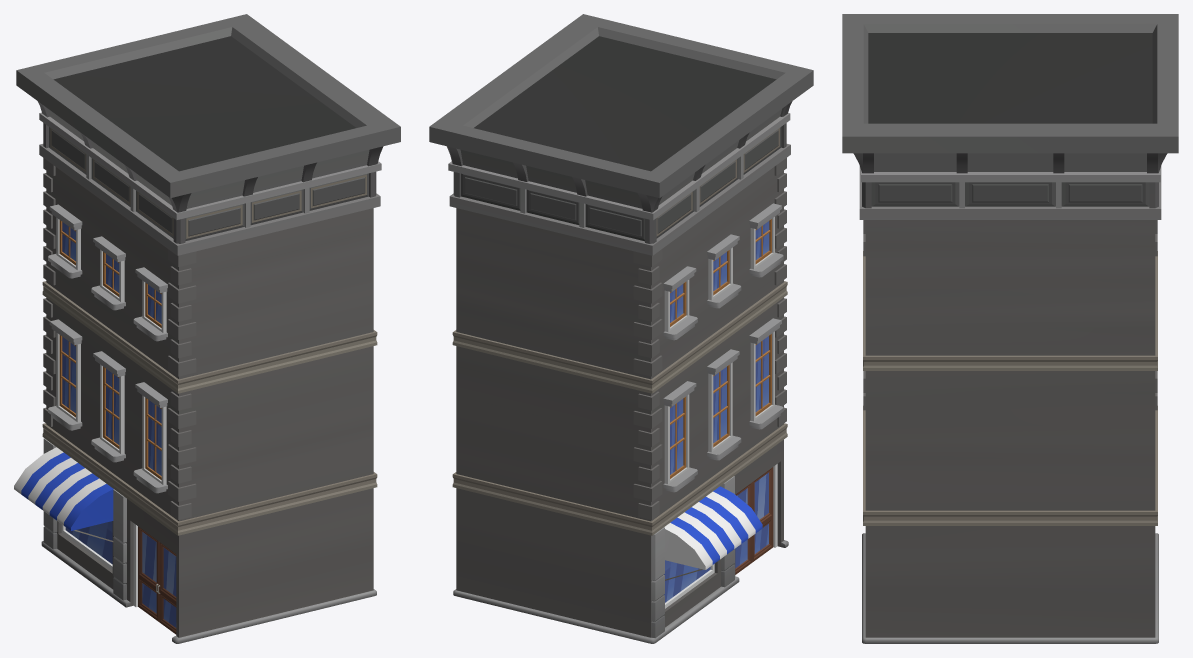
The model's file is Building_8_2_G.glb.
The picture shows the model from 3 angles, left to right: view 1: azimuth 30°, elevation 25°; view 2: azimuth 150°, elevation 25°; view 3: azimuth 270°, elevation 25°; orthographic projection. The views are drawn at different scales.
Visible parts, largest first — view 1: Building 8_2_G; view 2: Building 8_2_G; view 3: Building 8_2_G.
Part boxes in pixels (x1=…): Building 8_2_G: x1=14, y1=14, x2=400, y2=643; Building 8_2_G: x1=429, y1=14, x2=813, y2=643; Building 8_2_G: x1=842, y1=14, x2=1178, y2=643.
Bounding box in the file's own units: 7.2 × 12.76 × 7.55.
3 materials, 3 textured.
